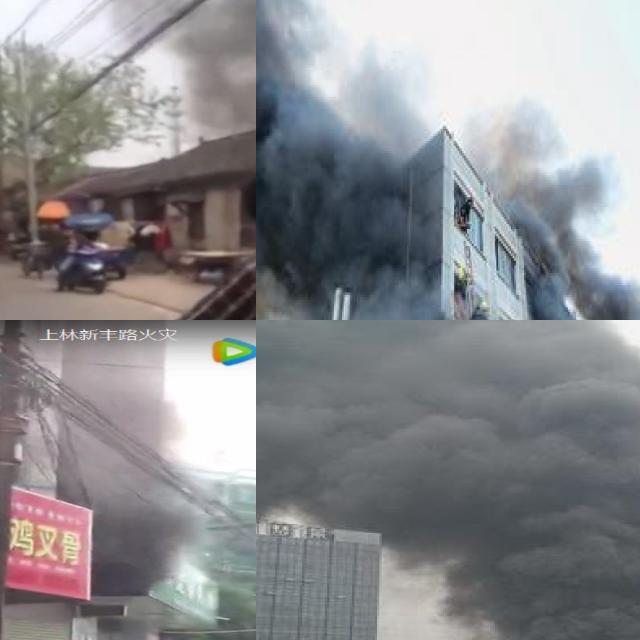smoke: (256, 0, 640, 320), (256, 320, 640, 640), (53, 348, 212, 600), (197, 0, 256, 105)
